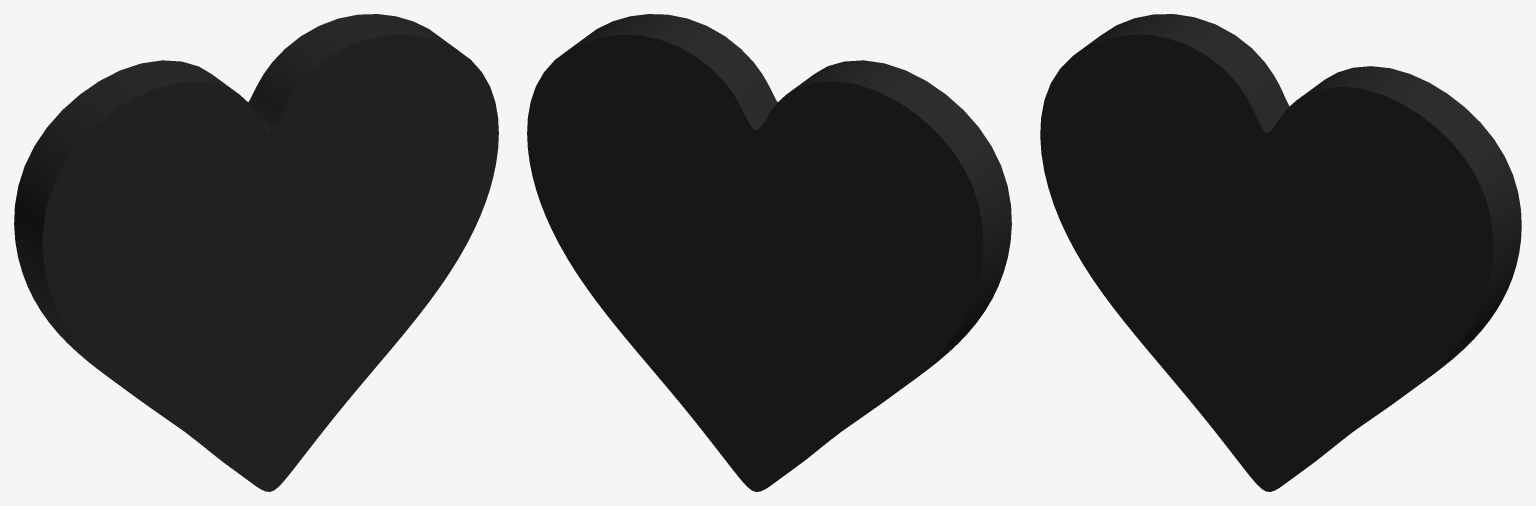
The model's file is heart_suit.glb.
3 views of the same model, side by side, from view 1: azimuth 30°, elevation 25°; view 2: azimuth 150°, elevation 25°; view 3: azimuth 330°, elevation 25° (orthographic).
Parts seen in each view (by area): view 1: hfdjkslfjkds.030; view 2: hfdjkslfjkds.030; view 3: hfdjkslfjkds.030.
Boxes of the visible parts, x1,y1,x2,y2 form: hfdjkslfjkds.030: (14,14,498,491); hfdjkslfjkds.030: (527,14,1011,491); hfdjkslfjkds.030: (1040,14,1521,491).
Bounding box in the file's own units: 2.23 × 2.01 × 0.24.
1 material, 1 textured.
